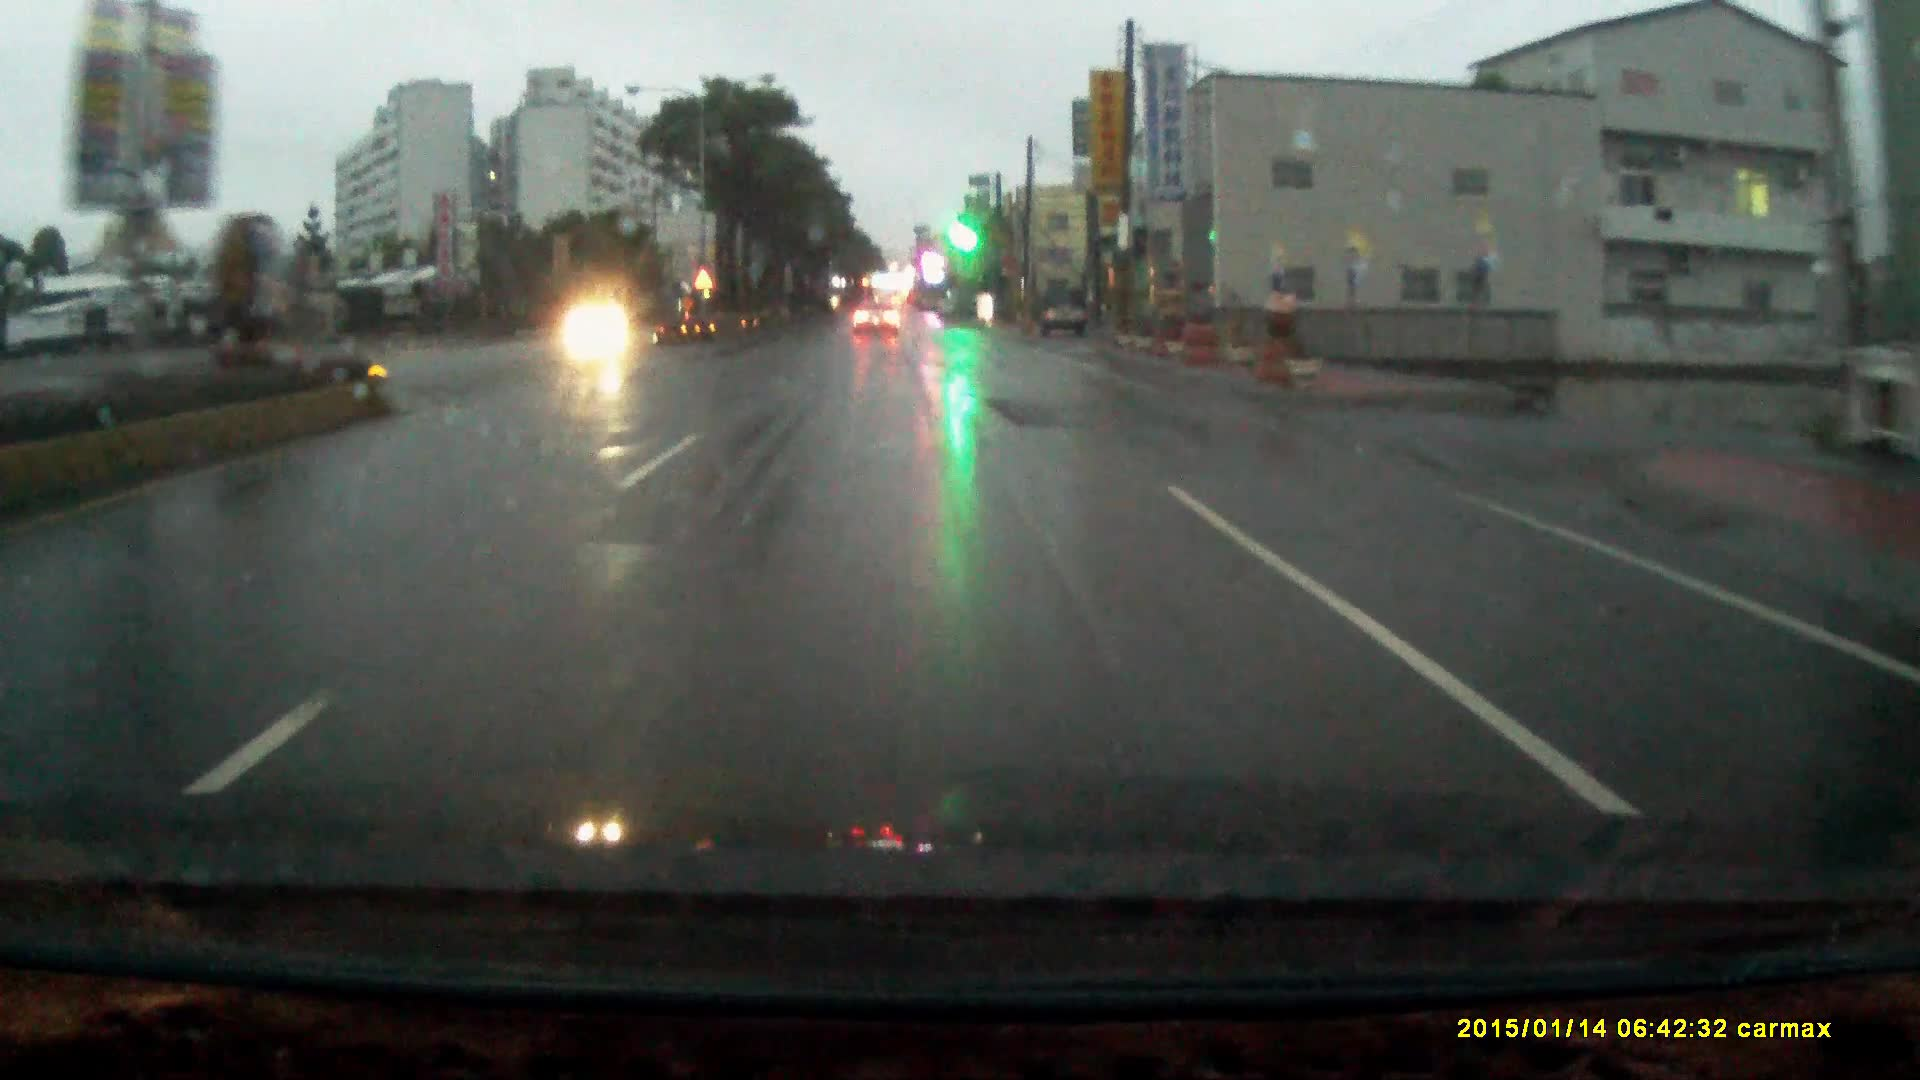vehicle: (1042, 287, 1091, 340), (849, 301, 899, 338)
